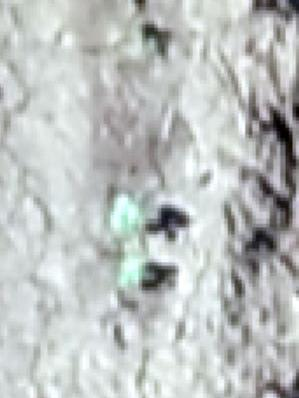cotton: (112, 198, 138, 232), (120, 261, 146, 284), (129, 29, 152, 52)
